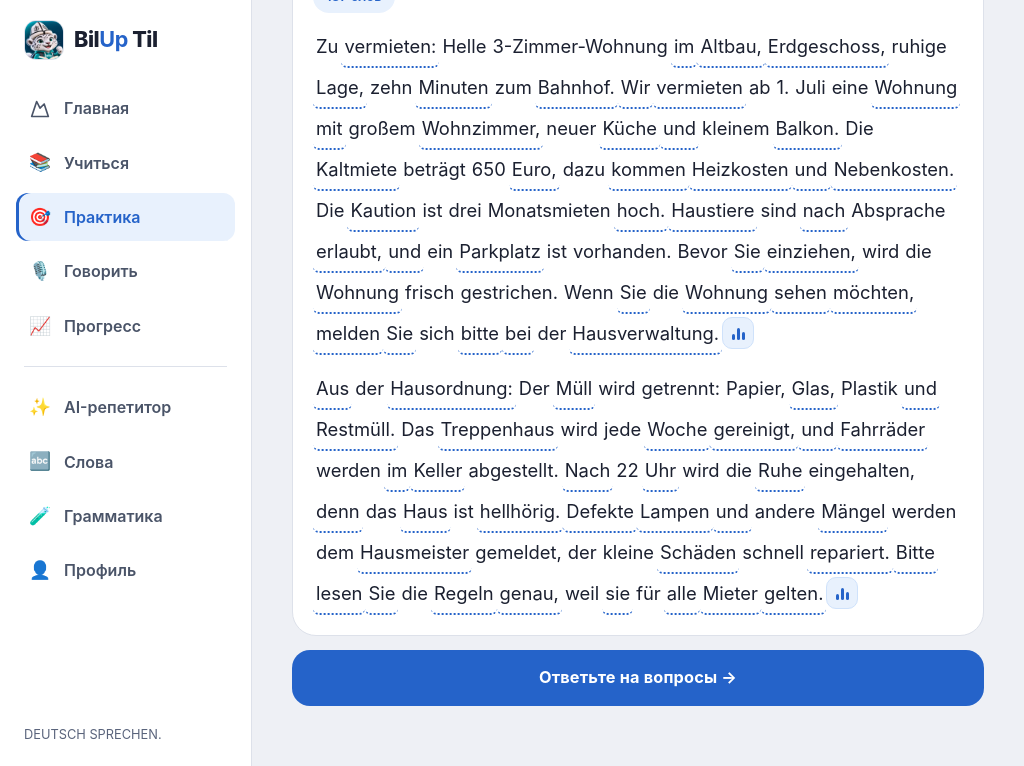
Scenario: reading and listening flows › ru: the reading shows its text and questions; answering one gives feedback and no error is logged
Later steps or results of the test are not shown.
(page scrolled)
Click the button "Ответьте на вопросы →" at {"x": 638, "y": 678}, box [292,650,984,706]
(page scrolled)
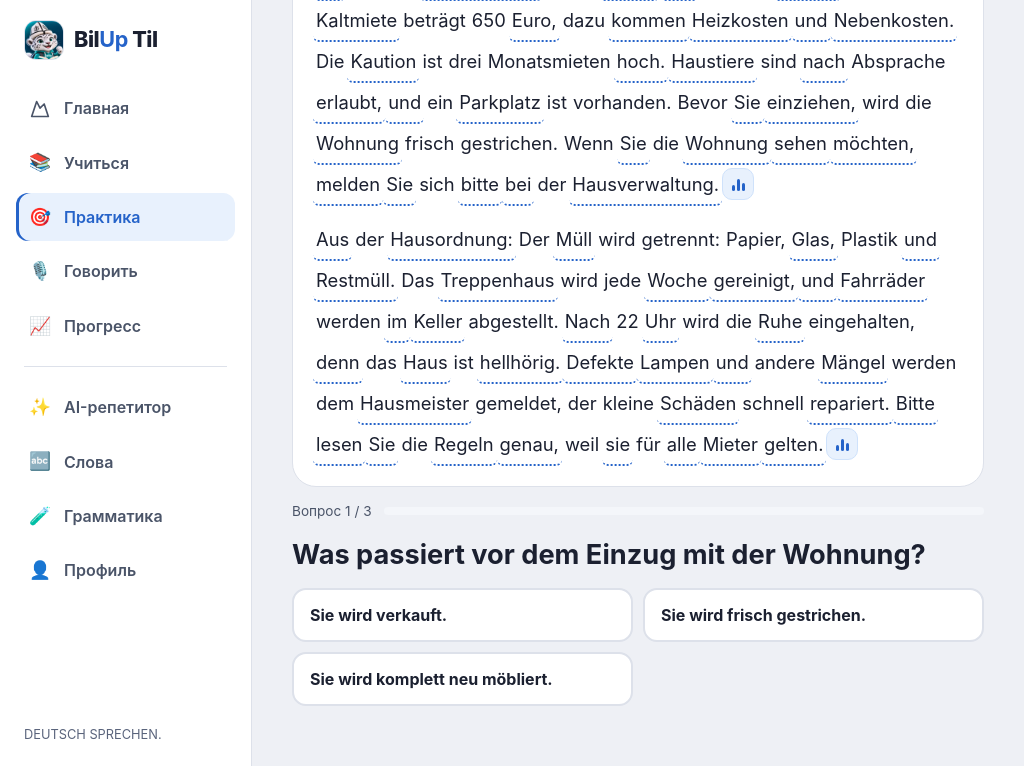
expect the text "Was passiert vor dem Einzug mit der Wohnung?" is shown: met, box [292,537,926,574]
expect the button "Sie wird verkauft." is shown: met, box [292,588,633,642]
